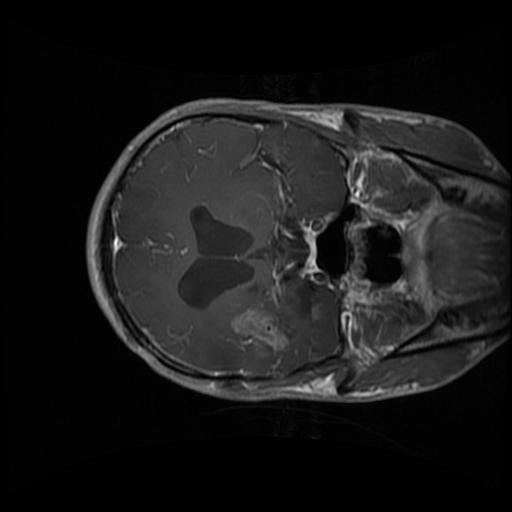glioma: (226, 304, 291, 363)
